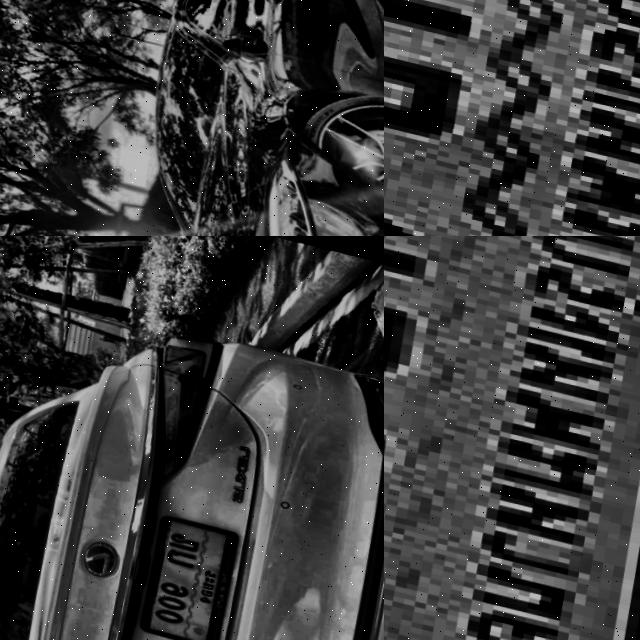license-plate: (384, 236, 640, 640), (384, 0, 640, 236), (136, 509, 237, 640)
